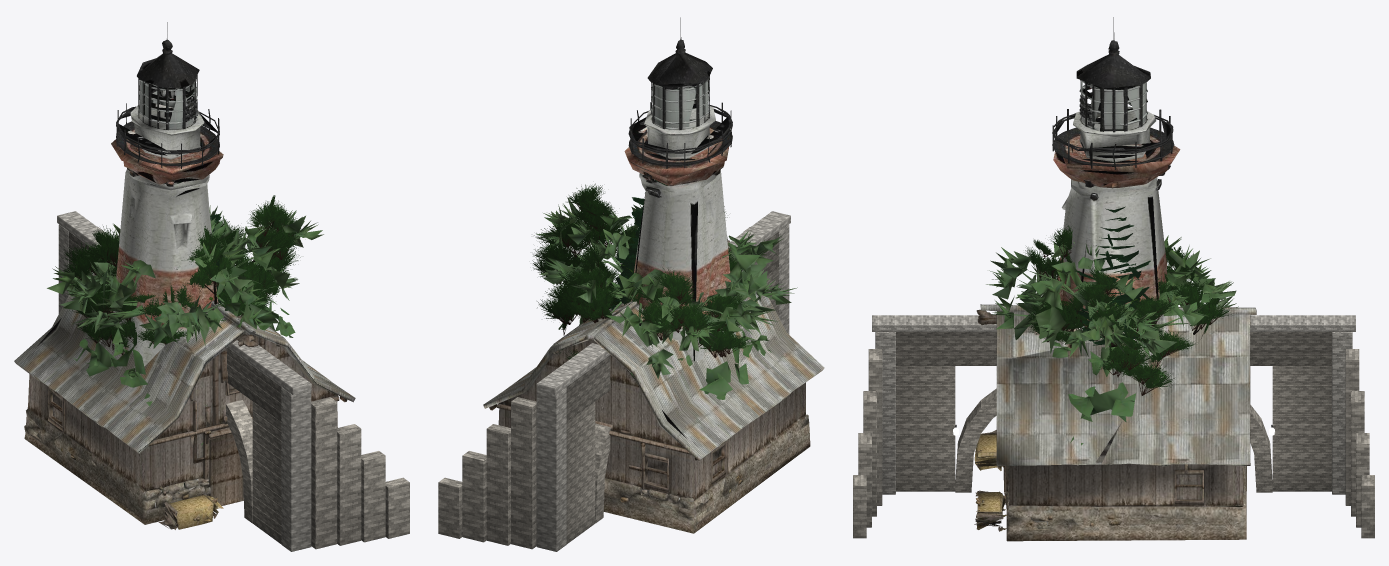
File: flora_coast.glb
The picture shows the model from 3 angles, left to right: view 1: azimuth 30°, elevation 25°; view 2: azimuth 150°, elevation 25°; view 3: azimuth 270°, elevation 25°; orthographic projection. The views are drawn at different scales.
Visible parts, largest first — view 1: S_prop_barn_hq_LOD0, S_prop_tunnel_portal_7_LOD0, S_prop_house_t_light_LOD0, S_tree_t_pine_LOD0, S_palm_b_LOD0, S_tree_t_oak_LOD0; view 2: S_prop_barn_hq_LOD0, S_prop_tunnel_portal_7_LOD0, S_prop_house_t_light_LOD0, S_palm_b_LOD0, S_tree_t_pine_LOD0, S_tree_t_oak_LOD0, S_spruce_LOD0; view 3: S_prop_barn_hq_LOD0, S_prop_tunnel_portal_7_LOD0, S_prop_house_t_light_LOD0, S_tree_t_pine_LOD0, S_palm_b_LOD0, S_tree_t_oak_LOD0, S_spruce_LOD0.
Boxes of the visible parts, x1,y1,x2,y2 form: S_prop_barn_hq_LOD0: [14, 234, 355, 529]; S_prop_tunnel_portal_7_LOD0: [57, 211, 409, 551]; S_prop_house_t_light_LOD0: [111, 22, 223, 491]; S_tree_t_pine_LOD0: [47, 205, 323, 348]; S_palm_b_LOD0: [61, 195, 305, 355]; S_tree_t_oak_LOD0: [73, 300, 295, 445]; S_prop_barn_hq_LOD0: [483, 236, 824, 533]; S_prop_tunnel_portal_7_LOD0: [438, 211, 790, 551]; S_prop_house_t_light_LOD0: [624, 17, 735, 499]; S_palm_b_LOD0: [532, 183, 752, 359]; S_tree_t_pine_LOD0: [536, 197, 797, 378]; S_tree_t_oak_LOD0: [558, 277, 771, 399]; S_spruce_LOD0: [610, 180, 667, 309]; S_prop_barn_hq_LOD0: [974, 304, 1256, 541]; S_prop_tunnel_portal_7_LOD0: [853, 315, 1374, 538]; S_prop_house_t_light_LOD0: [1047, 17, 1180, 524]; S_tree_t_pine_LOD0: [986, 234, 1238, 380]; S_palm_b_LOD0: [1025, 225, 1232, 395]; S_tree_t_oak_LOD0: [1052, 319, 1166, 445]; S_spruce_LOD0: [1074, 206, 1154, 345].
Size of what is drawn, in the model's own units: 19.63 by 31.42 by 30.4.
Materials: 27 (25 with a texture image).
